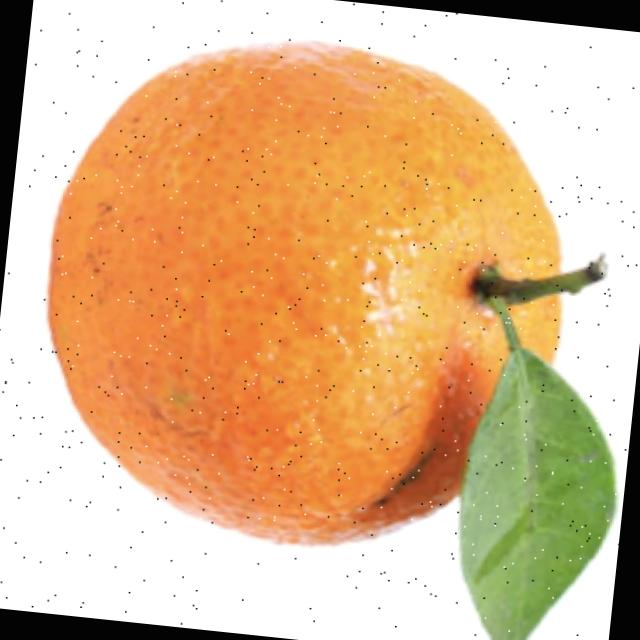pineapple: (1, 19, 600, 574)
